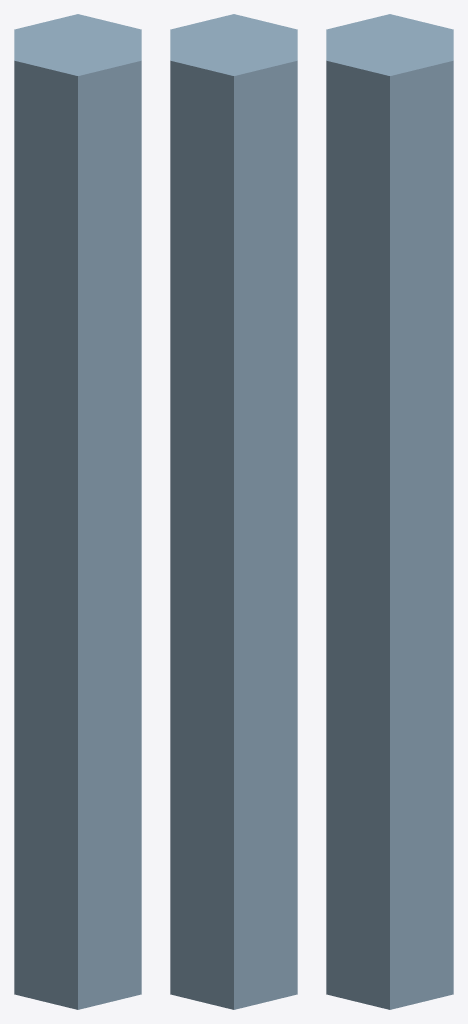
The model's file is LASER.glb.
3 views of the same model, side by side, from view 1: azimuth 30°, elevation 25°; view 2: azimuth 150°, elevation 25°; view 3: azimuth 330°, elevation 25° (orthographic).
Parts seen in each view (by area): view 1: LASER | archived geometry; view 2: LASER | archived geometry; view 3: LASER | archived geometry.
Part boxes in pixels (x1,y1,x2,y2): LASER | archived geometry: (14, 14, 141, 1009); LASER | archived geometry: (170, 14, 297, 1009); LASER | archived geometry: (326, 14, 453, 1009).
Size of the model in its own units: 2.5 by 17.5 by 2.17.
